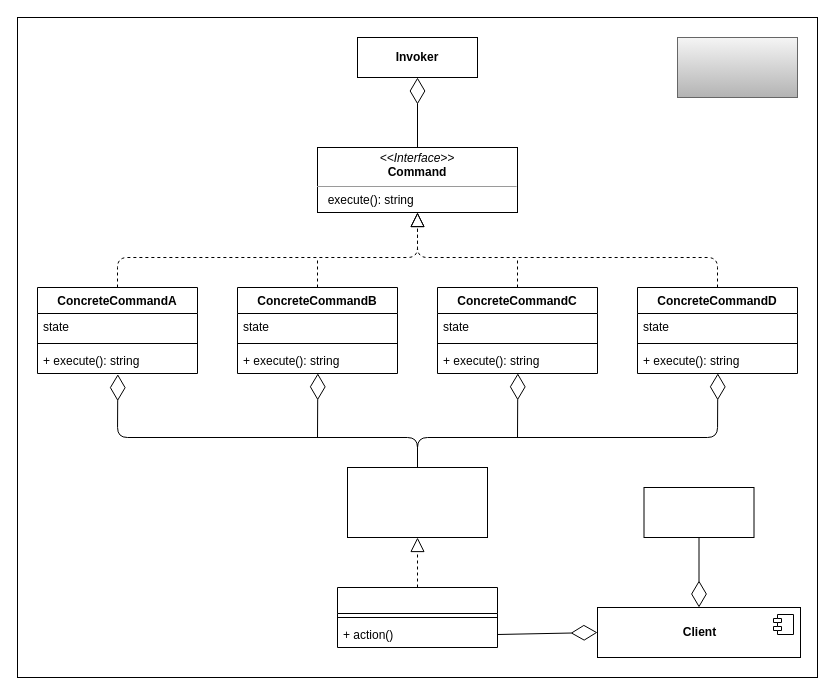
The diagram is 835 pixels wide and 695 high, and some of its shapes have lost their labels. The shapes that lost their labels are listed below. From the top down, each one's box as (x1, y1, x2, y2) in pixels, then its label:
(676, 36, 798, 98): Command
(346, 466, 488, 538): <<Interface>> Receiver action()
(643, 486, 754, 538): EditorInvoker
(336, 586, 498, 648): ConcreteReceiver
